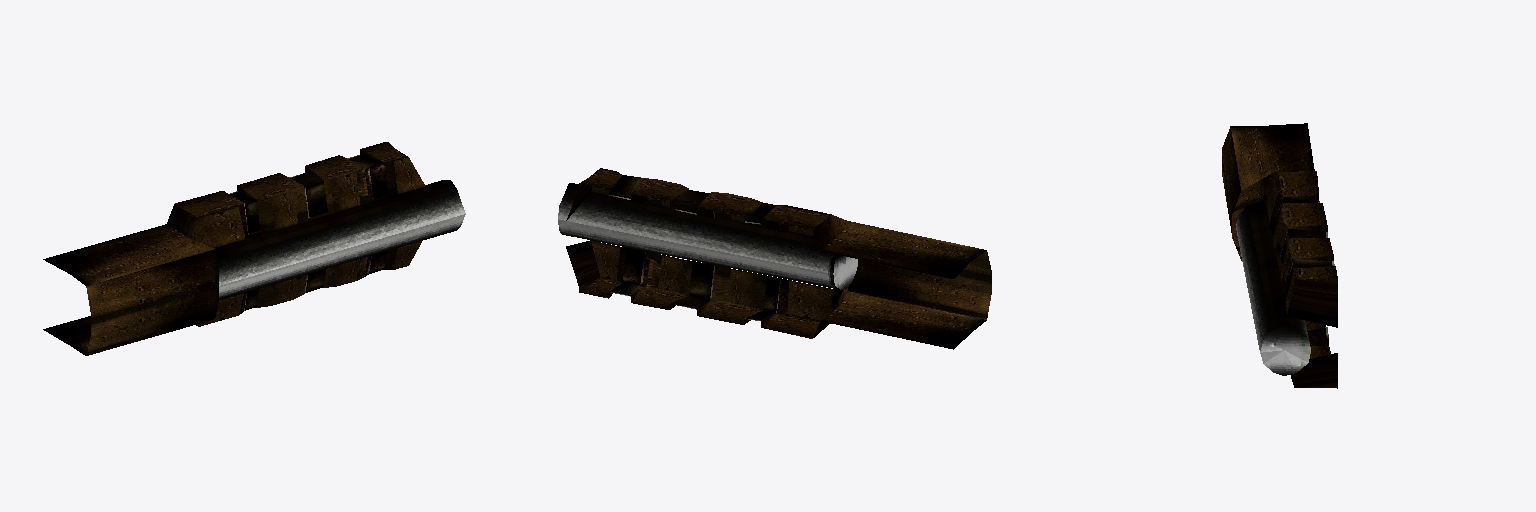
The picture shows the model from 3 angles: view 1: azimuth 30°, elevation 25°; view 2: azimuth 150°, elevation 25°; view 3: azimuth 270°, elevation 25°; orthographic projection.
Size of the model in its own units: 15.04 by 3.91 by 3.79.
Materials: 1 (1 with a texture image).